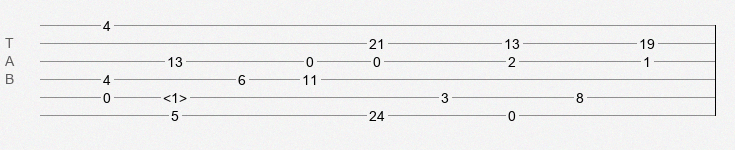0: (103, 90, 111, 100), (306, 54, 314, 64), (373, 54, 381, 64), (508, 108, 516, 118)
1: (643, 54, 651, 64)
11: (302, 72, 318, 82)
13: (167, 54, 183, 64), (504, 36, 520, 46)
19: (639, 36, 655, 46)
2: (508, 54, 516, 64)
21: (369, 36, 385, 46)
24: (369, 108, 385, 118)
3: (441, 90, 449, 100)
4: (103, 72, 111, 82), (103, 18, 111, 28)
5: (171, 108, 179, 118)
6: (238, 72, 246, 82)
8: (576, 90, 584, 100)
harmonic: (163, 90, 187, 100)
